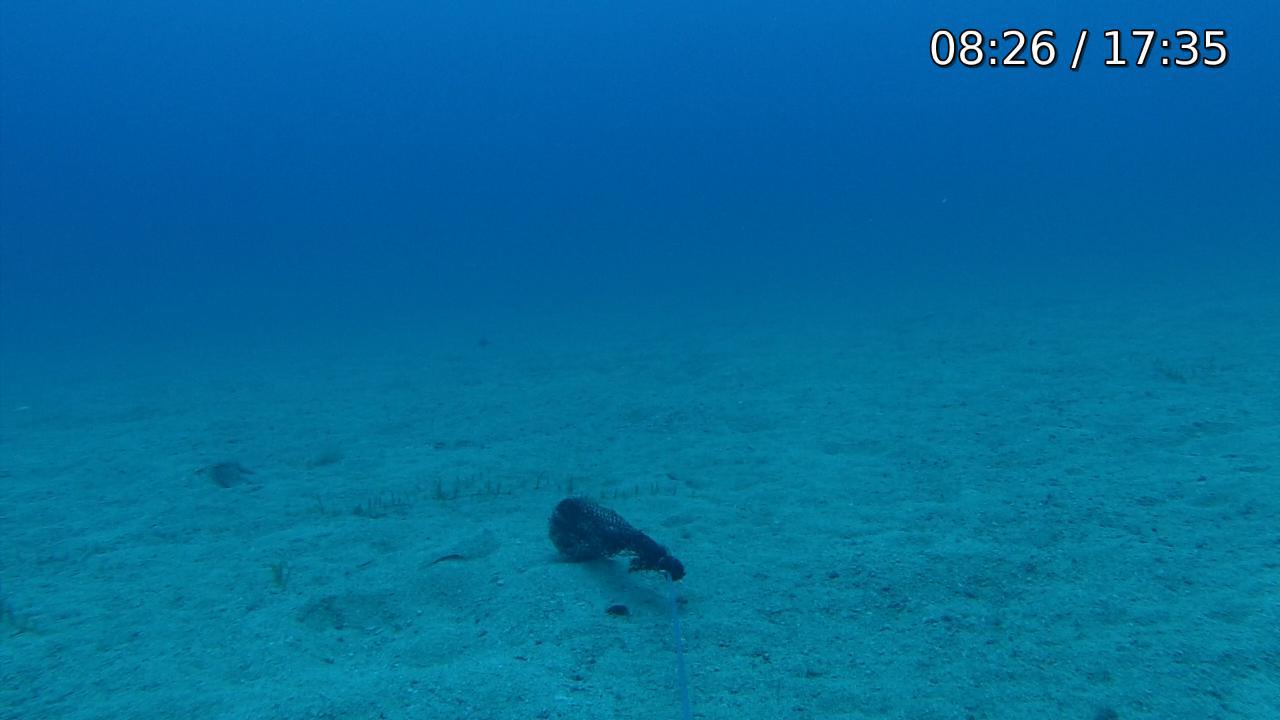bothus: (418, 518, 501, 575)
